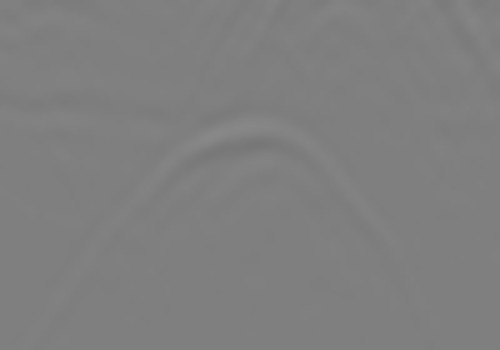hyperbola: (76, 112, 426, 301)
